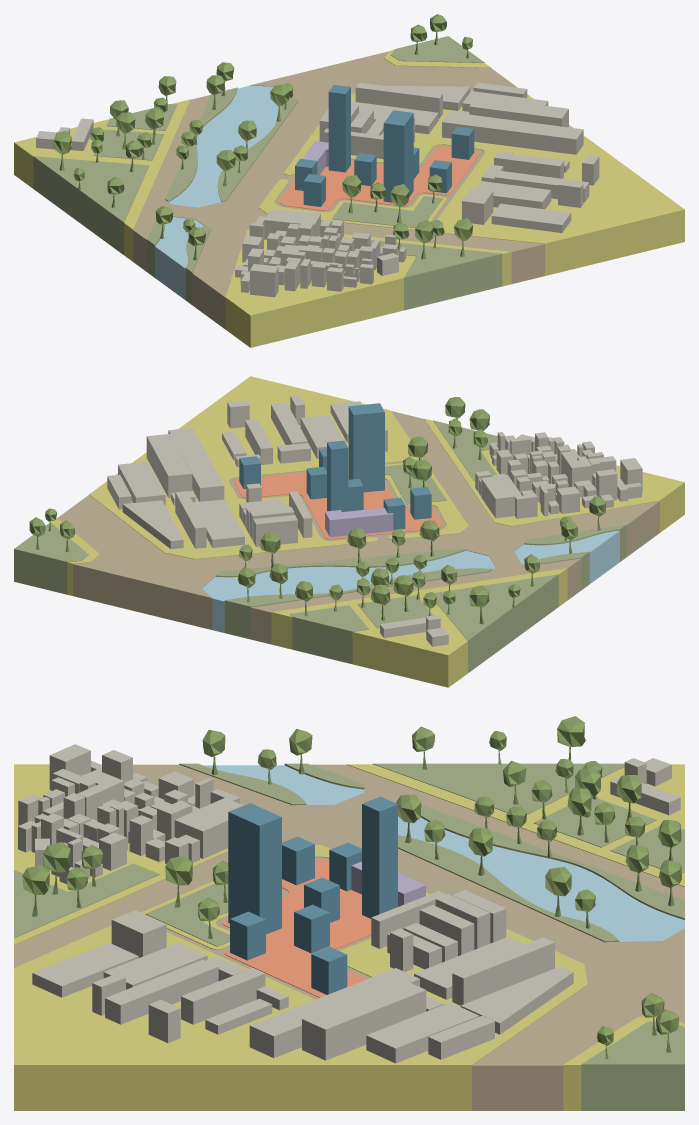
The picture shows the model from 3 angles, top to bottom: view 1: azimuth 30°, elevation 25°; view 2: azimuth 150°, elevation 25°; view 3: azimuth 270°, elevation 25°; orthographic projection. The views are drawn at different scales.
Parts seen in each view (by area): view 1: GH_Obj (×39); view 2: GH_Obj (×42); view 3: GH_Obj (×66).
Part boxes in pixels (left/top/right/bottom): GH_Obj (×39): left=14, top=36, right=684, bottom=347; GH_Obj (×42): left=14, top=376, right=684, bottom=687; GH_Obj (×66): left=14, top=716, right=684, bottom=1110.
Size of the model in its own units: 568 by 137 by 529.
